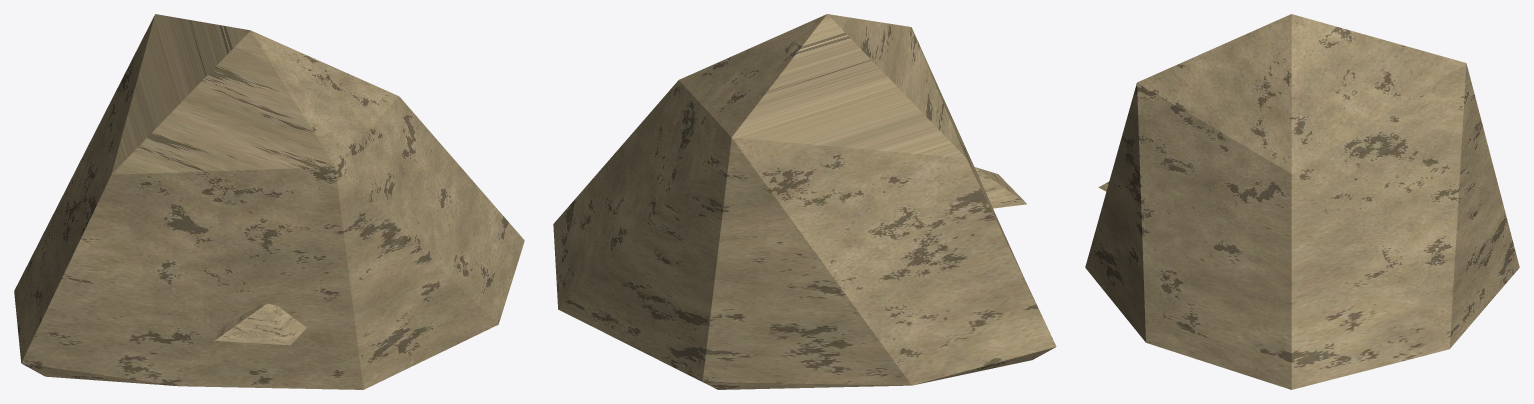
The model's file is ae_battle_rock_boulder_lod1.glb.
3 views of the same model, side by side, from view 1: azimuth 30°, elevation 25°; view 2: azimuth 150°, elevation 25°; view 3: azimuth 270°, elevation 25° (orthographic). The views are drawn at different scales.
Parts seen in each view (by area): view 1: ae_battle_rock_boulder_lod1; view 2: ae_battle_rock_boulder_lod1; view 3: ae_battle_rock_boulder_lod1.
Part boxes in pixels (left/top/right/bottom): ae_battle_rock_boulder_lod1: left=14, top=14, right=524, bottom=389; ae_battle_rock_boulder_lod1: left=553, top=14, right=1056, bottom=389; ae_battle_rock_boulder_lod1: left=1085, top=14, right=1519, bottom=389.
Bounding box in the file's own units: 7.35 × 4.13 × 6.
1 material, 1 textured.
